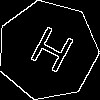H: (23, 25, 77, 82)
